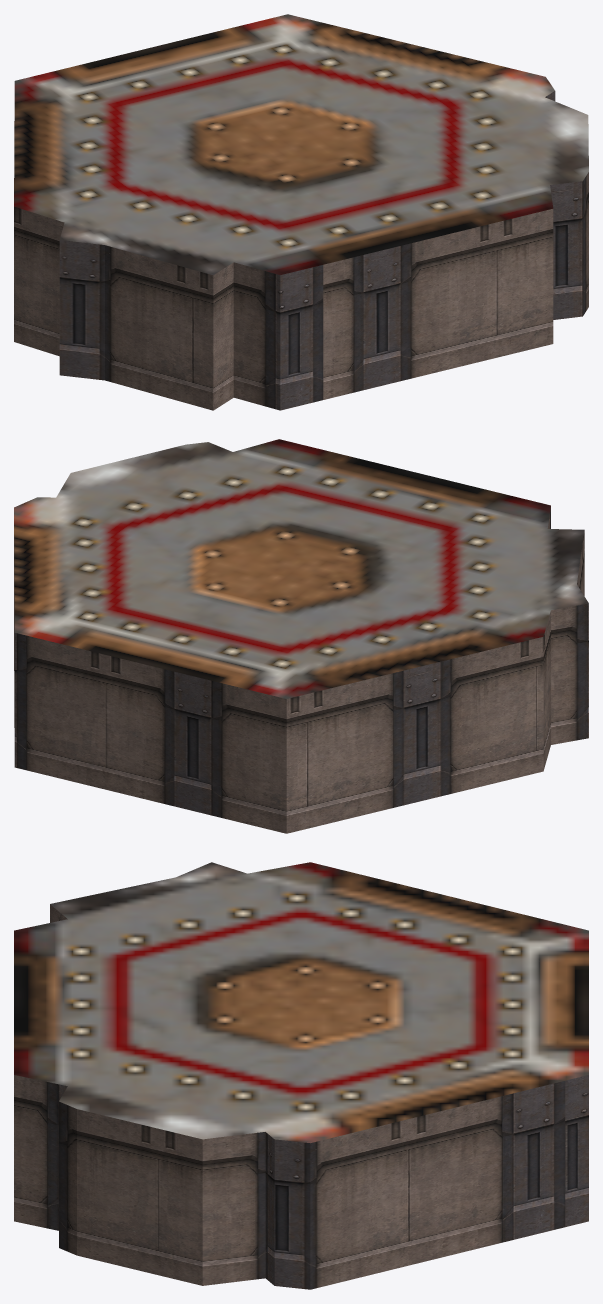
File: bsealed_heavy_a_20.glb
The picture shows the model from 3 angles, top to bottom: view 1: azimuth 30°, elevation 25°; view 2: azimuth 150°, elevation 25°; view 3: azimuth 270°, elevation 25°; orthographic projection. The views are drawn at different scales.
Parts seen in each view (by area): view 1: buildings/saxarba/bsealed_heavy/bsealed_heavy_a_20; view 2: buildings/saxarba/bsealed_heavy/bsealed_heavy_a_20; view 3: buildings/saxarba/bsealed_heavy/bsealed_heavy_a_20.
Part boxes in pixels (bbox=[...]): buildings/saxarba/bsealed_heavy/bsealed_heavy_a_20: bbox=[14, 14, 588, 410]; buildings/saxarba/bsealed_heavy/bsealed_heavy_a_20: bbox=[14, 439, 588, 833]; buildings/saxarba/bsealed_heavy/bsealed_heavy_a_20: bbox=[14, 862, 588, 1289].
Bounding box in the file's own units: 74 × 18 × 64.
